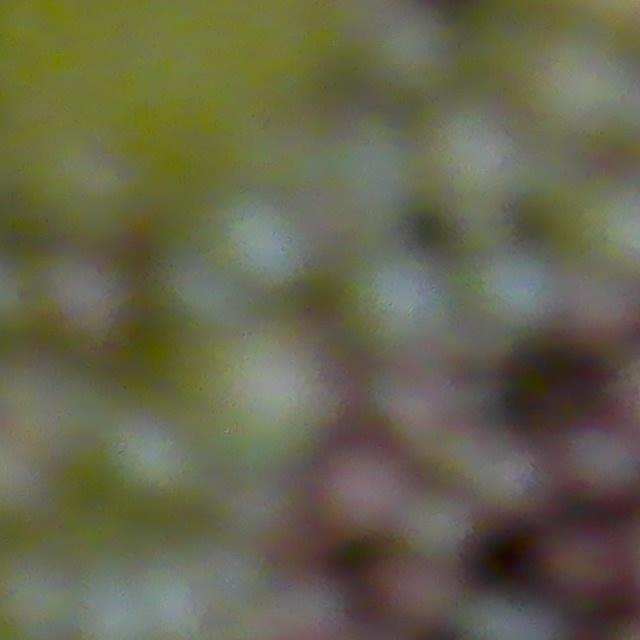SeaGrape: (340, 240, 455, 354), (101, 415, 206, 512), (40, 248, 139, 345), (212, 196, 311, 293), (318, 447, 405, 539), (471, 248, 561, 334), (564, 424, 640, 506), (547, 529, 618, 600), (380, 567, 454, 629)
